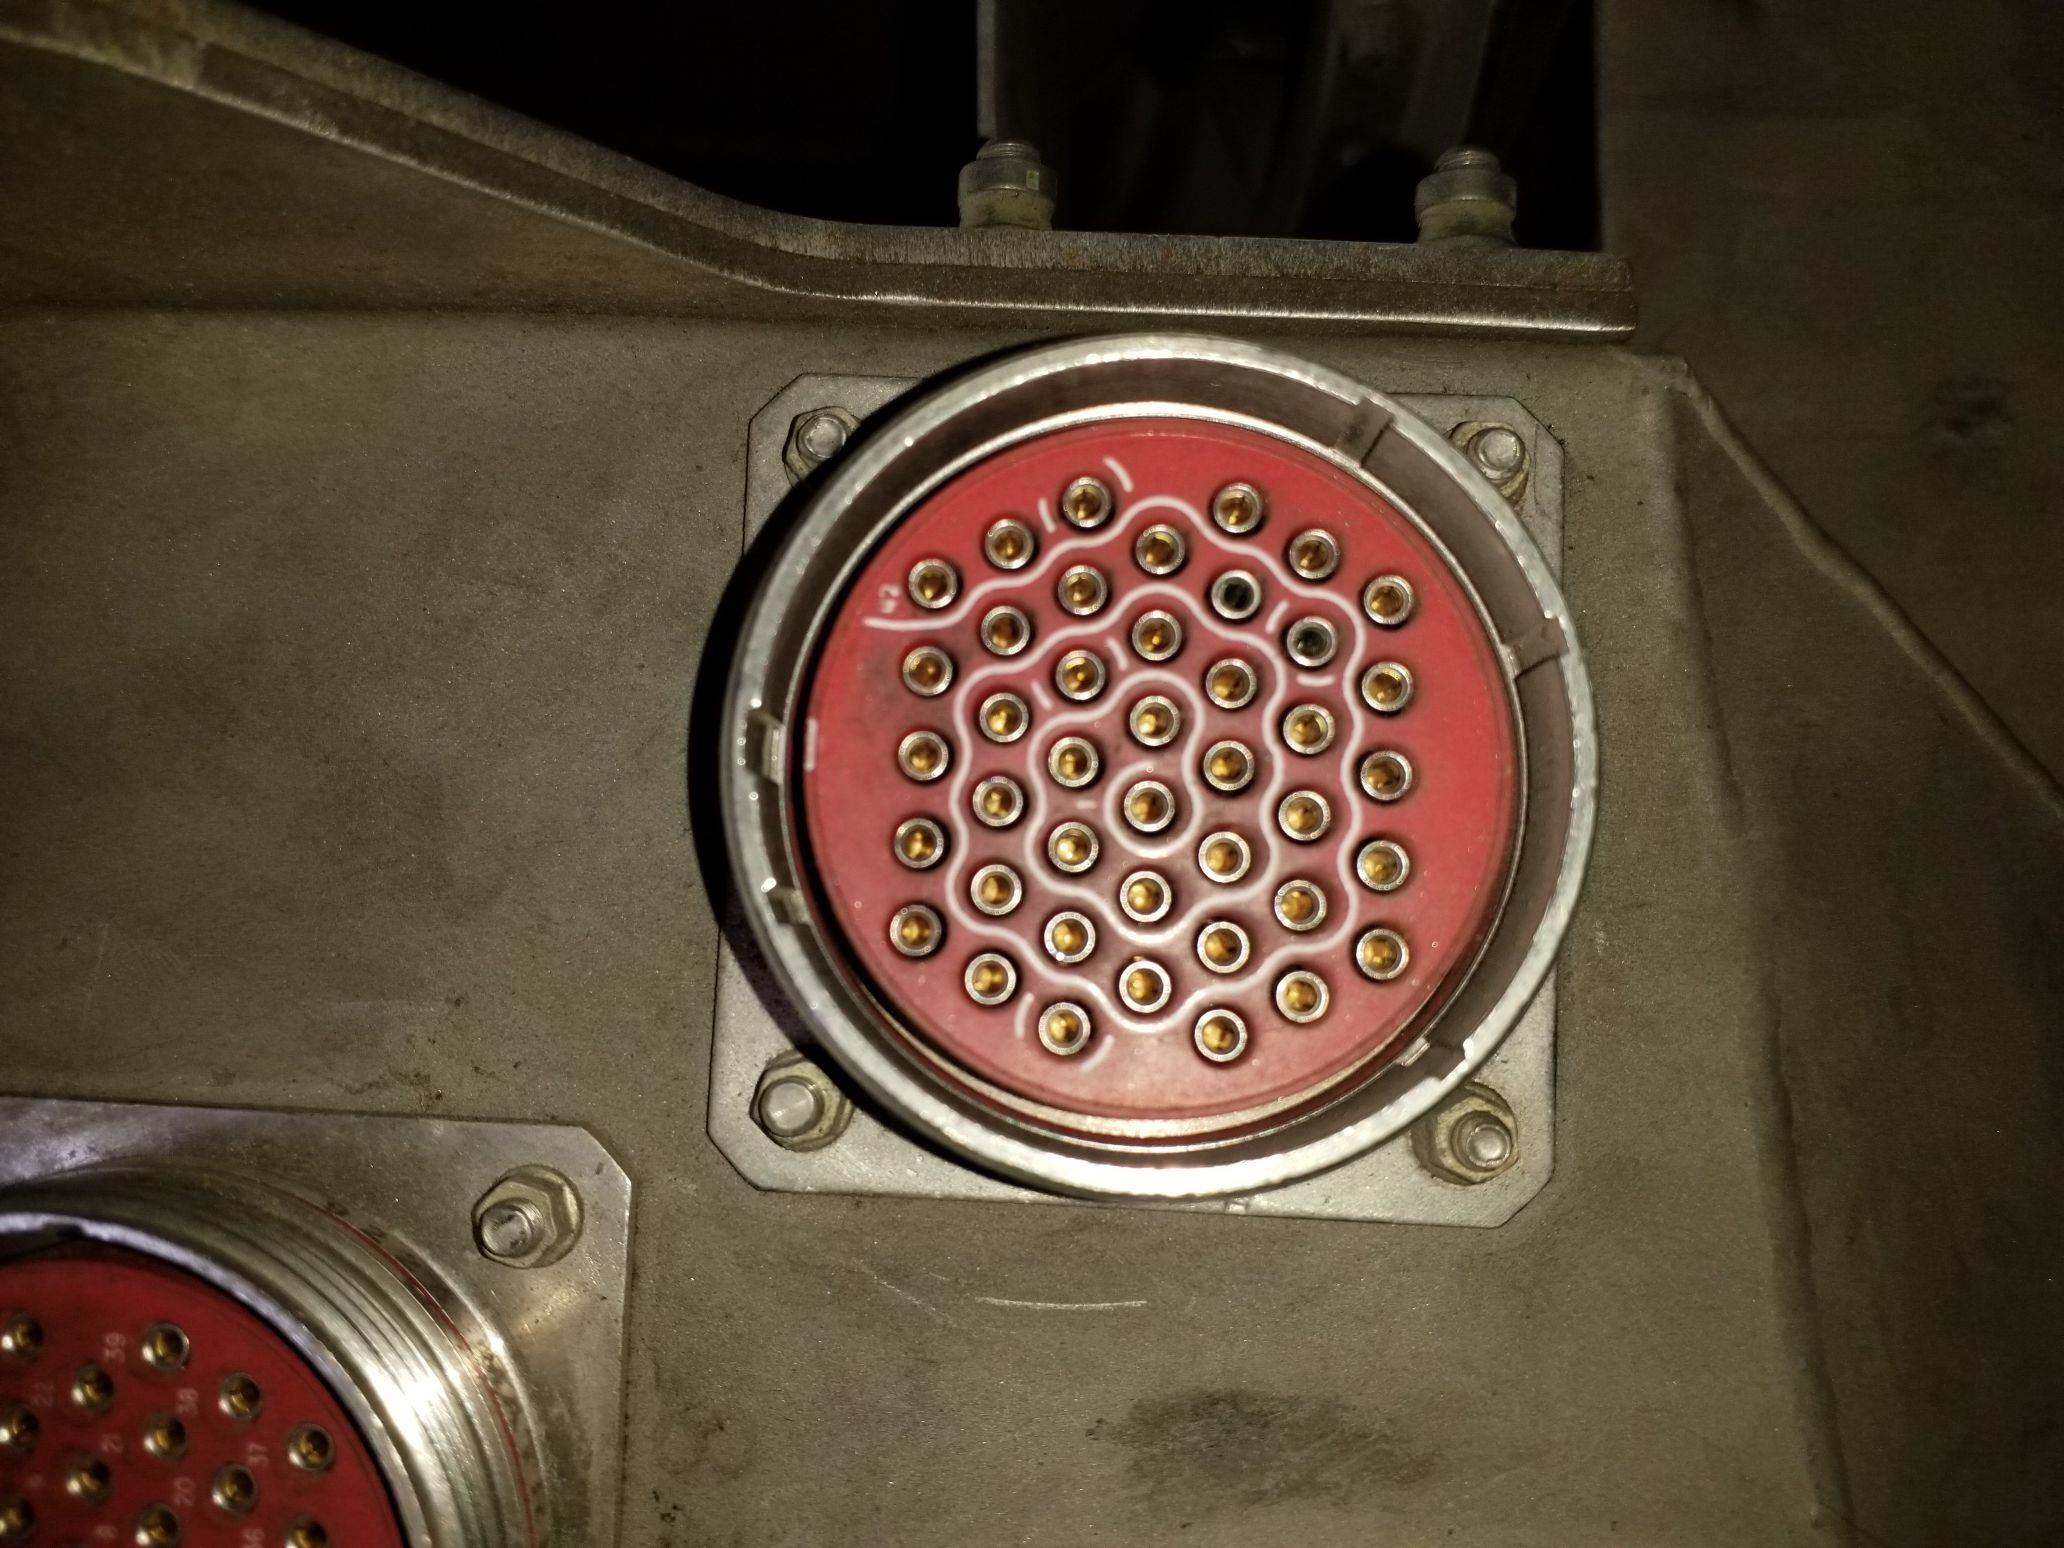inletround: (704, 328, 1606, 1207)
